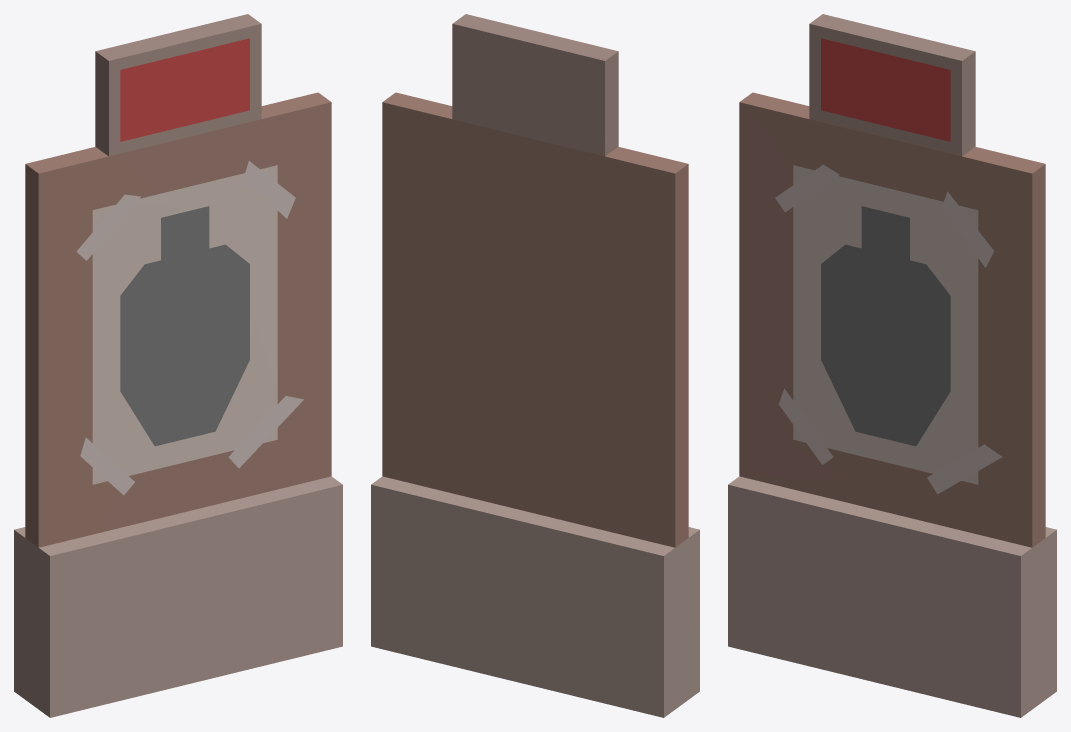
The model's file is ds_target.glb.
3 views of the same model, side by side, from view 1: azimuth 30°, elevation 25°; view 2: azimuth 150°, elevation 25°; view 3: azimuth 330°, elevation 25° (orthographic).
Parts seen in each view (by area): view 1: ds_target; view 2: ds_target; view 3: ds_target.
Part boxes in pixels (x1,y1,x2,y2): ds_target: [14, 14, 342, 717]; ds_target: [371, 14, 699, 717]; ds_target: [728, 14, 1056, 717].
Bounding box in the file's own units: 1.35 × 2.77 × 0.2877.
